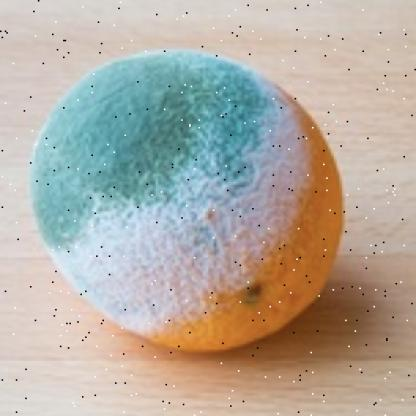rotten: (29, 52, 343, 352)
